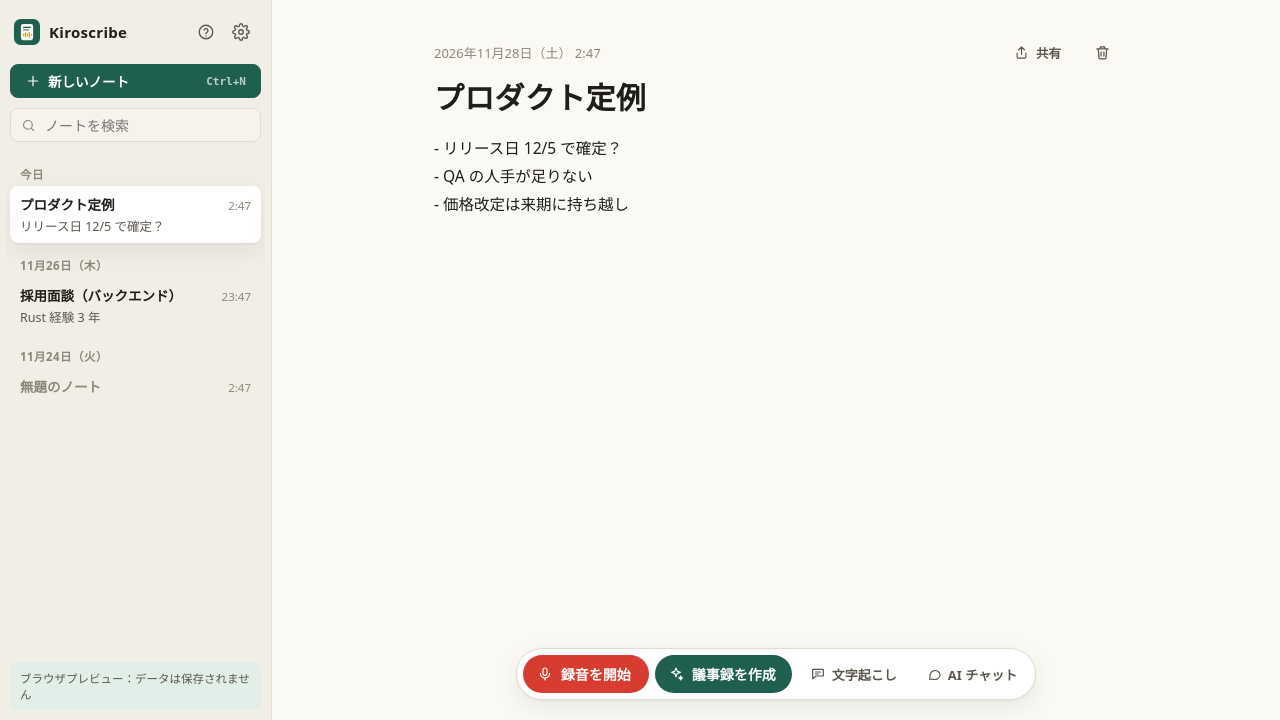
Test: 録音 › [NOTE-016] 録音中のノートは削除できない
Check: the field showing "プロダクト定例" is shown, box [434, 74, 1118, 121]
Click the button "録音を開始" at (586, 674), box [523, 655, 649, 693]
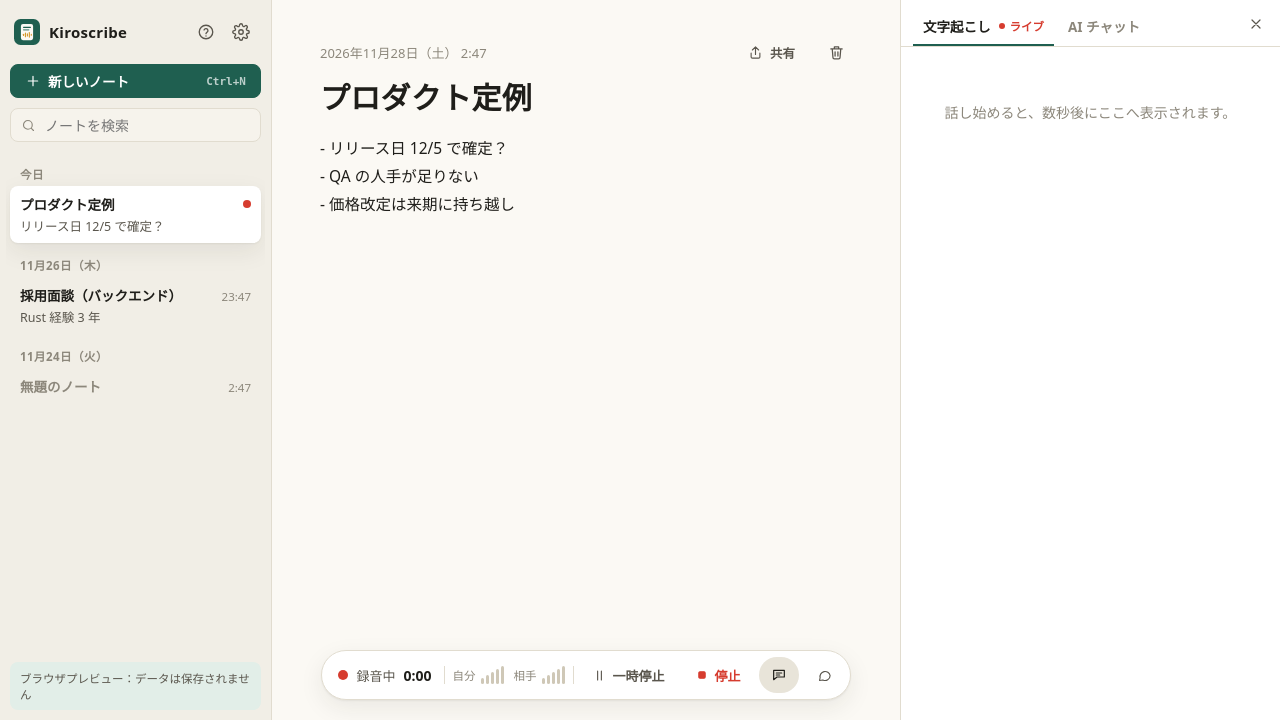
Check: the element showing "録音中 0:00" is shown, box [354, 666, 438, 684]
Click the button named "ノートを削除" at (836, 52), box [820, 36, 852, 68]
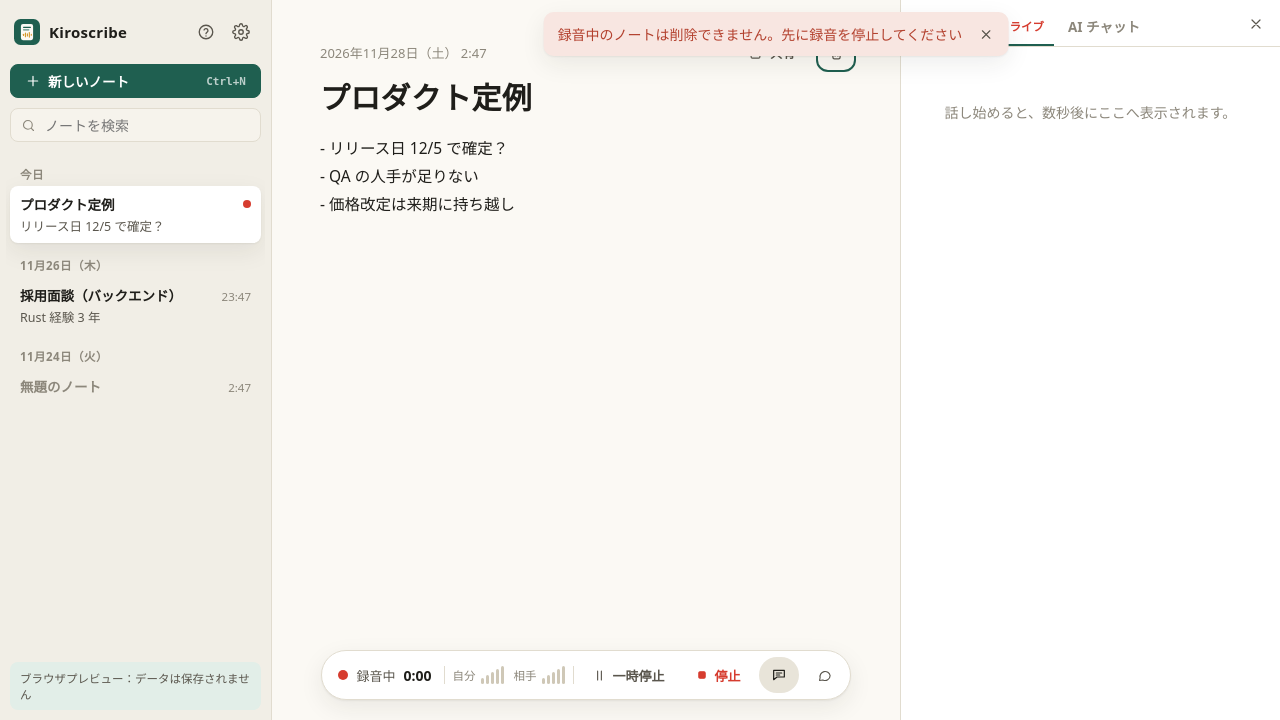
Check: the message shows "録音中のノートは削除できません", box [558, 24, 962, 44]
